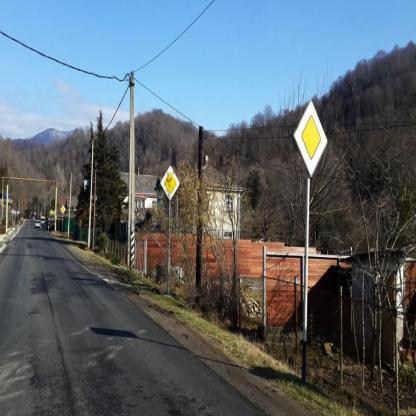road_sign: (293, 101, 327, 176), (161, 166, 180, 200), (62, 205, 65, 214)
